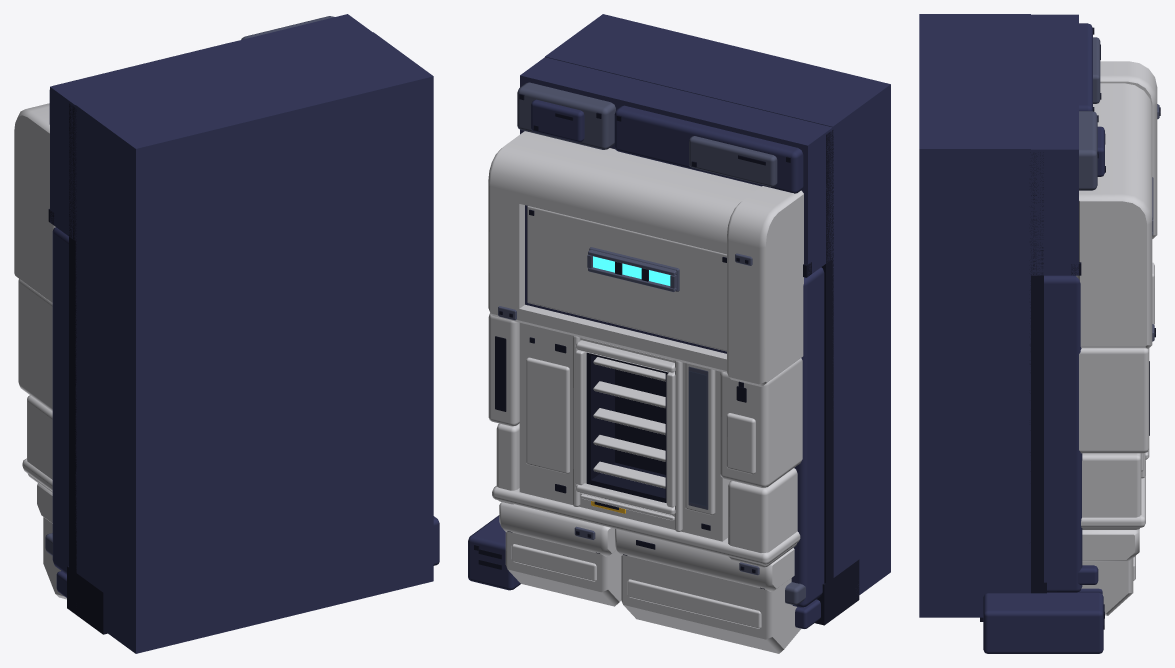
The model's file is hull.bay.vent.light.none.plate.w2.000.s4.k-2.glb.
3 renders of one model, left to right at view 1: azimuth 30°, elevation 25°; view 2: azimuth 150°, elevation 25°; view 3: azimuth 270°, elevation 25°, orthographic. The views are drawn at different scales.
Visible parts, largest first — view 1: hull.bay.vent.light.none.plate.w2.000.s4.k-2; view 2: hull.bay.vent.light.none.plate.w2.000.s4.k-2; view 3: hull.bay.vent.light.none.plate.w2.000.s4.k-2.
Boxes of the visible parts, bbox=[...] form: hull.bay.vent.light.none.plate.w2.000.s4.k-2: bbox=[14, 14, 439, 653]; hull.bay.vent.light.none.plate.w2.000.s4.k-2: bbox=[468, 14, 890, 653]; hull.bay.vent.light.none.plate.w2.000.s4.k-2: bbox=[919, 14, 1160, 653].
Size of the model in its own units: 2.29 by 3.37 by 1.51.
